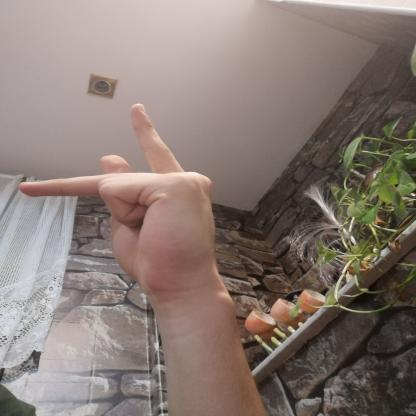DHAA: (9, 93, 230, 307)
